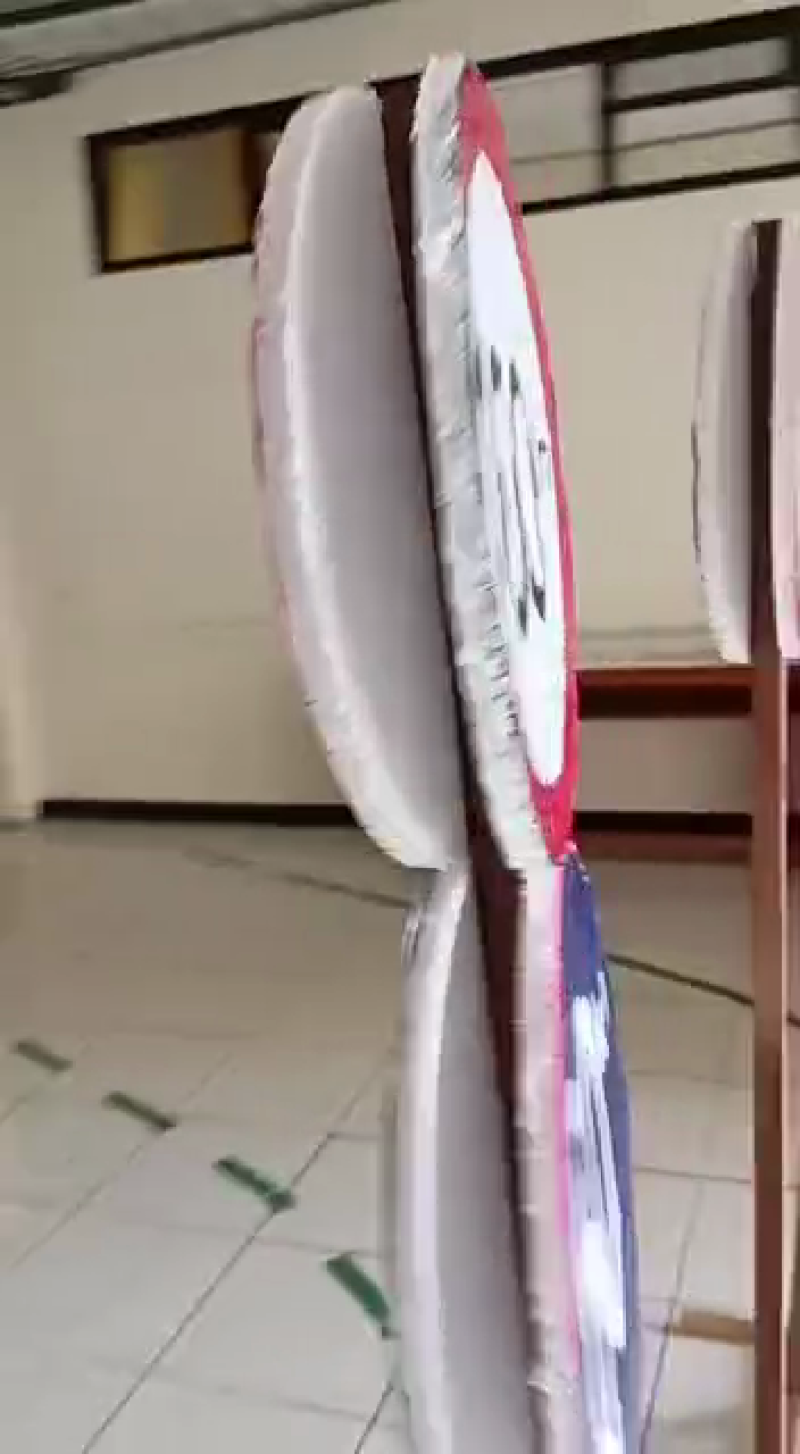batas maksimal 100kmperjam minimal 60kmperjam: (405, 46, 683, 1454)
